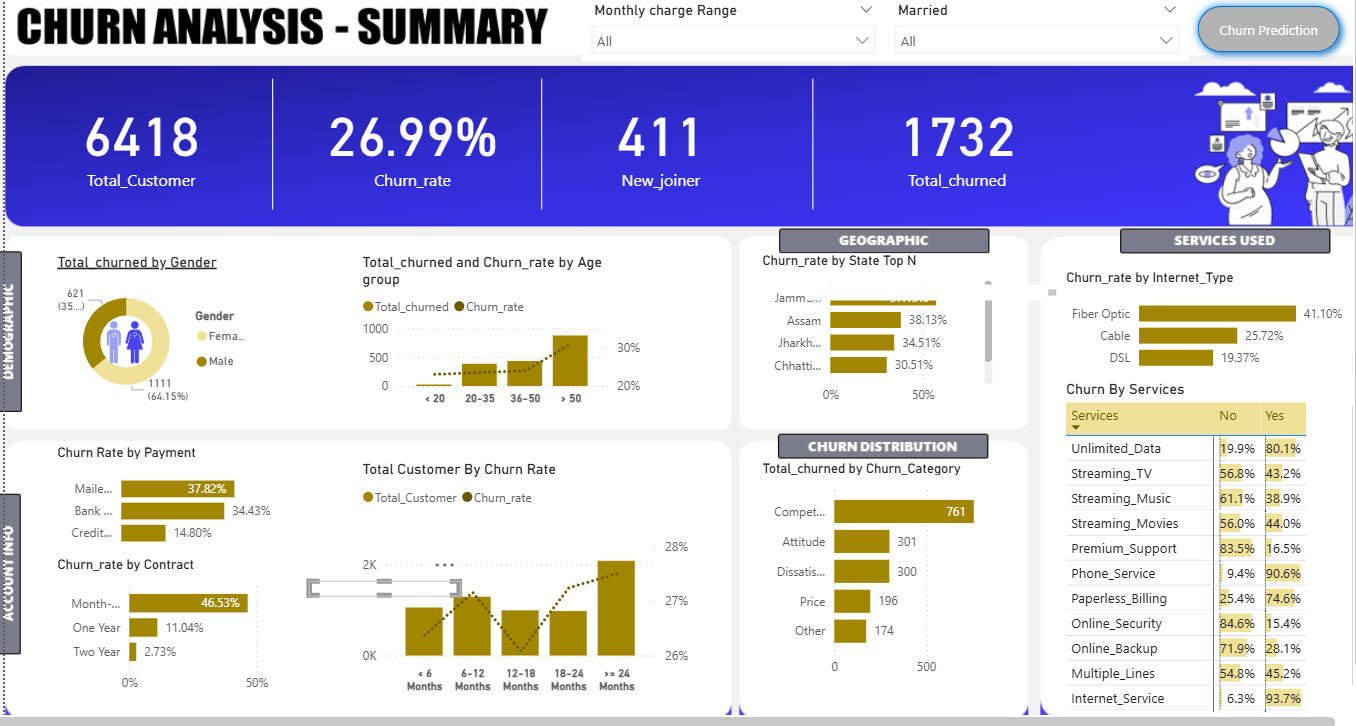

This screenshot's page, from the dashboard's own definition file:
{"tool":"powerbi","page":{"name":"Summary","canvas":[1366,768],"ordinal":0},"visuals":[{"type":"card","fields":{"Values":["Measure.Total_churned"]},"box":[832,80,240,128],"z":0},{"type":"card","fields":{"Values":["Measure.New_joiner"]},"box":[560,80,192,128],"z":1000},{"type":"card","fields":{"Values":["Measure.Total_Customer"]},"box":[32,80,208,128],"z":2000},{"type":"card","fields":{"Values":["Measure.Churn_rate"]},"box":[304,80,208,128],"z":3000},{"type":"lineStackedColumnComboChart","fields":{"Category":["Mapping age.Age group"],"Y":["Measure.Total_churned"],"Y2":["Measure.Churn_rate"]},"box":[352,256,288,160],"z":4000},{"type":"clusteredBarChart","title":"Churn Rate by Payment","fields":{"Category":["prod_Churn.Payment_Method"],"Y":["Measure.Churn_rate"]},"box":[48,448,224,112],"z":5000},{"type":"donutChart","fields":{"Y":["Measure.Total_churned"],"Category":["prod_Churn.Gender"]},"box":[48,256,208,160],"z":6000},{"type":"clusteredBarChart","fields":{"Category":["prod_Churn.Contract"],"Y":["Measure.Churn_rate"]},"box":[48,560,256,144],"z":7000},{"type":"lineStackedColumnComboChart","title":"Total Customer By Churn Rate","fields":{"Y":["Measure.Total_Customer"],"Y2":["Measure.Churn_rate"],"Category":["Mapping Tenure.Tenure Group"]},"box":[352,464,336,240],"z":8000},{"type":"clusteredBarChart","title":"Churn_rate by State Top N","fields":{"Category":["prod_Churn.State"],"Y":["Measure.Churn_rate"]},"box":[752,256,240,160],"z":9000},{"type":"clusteredBarChart","fields":{"Category":["prod_Churn.Churn_Category"],"Y":["Measure.Total_churned"]},"box":[752,464,256,224],"z":10000},{"type":"clusteredBarChart","fields":{"Category":["prod_Churn.Internet_Type"],"Y":["Measure.Churn_rate"]},"box":[1056,272,304,112],"z":11000},{"type":"pivotTable","title":"Churn By Services","fields":{"Rows":["PRod_services.Services"],"Columns":["PRod_services.Status"],"Values":["Sum(PRod_services.Churn status)"]},"box":[1056,384,304,336],"z":12000},{"type":"slicer","fields":{"Values":["prod_Churn.Monthly charge status"]},"box":[576,0,304,64],"z":13000},{"type":"image","box":[72,312,96,64],"z":14000},{"type":"slicer","fields":{"Values":["prod_Churn.Married"]},"box":[880,0,304,64],"z":15000},{"type":"textbox","box":[800,288,256,16],"z":16000},{"type":"shape","box":[1184,0,160,64],"z":16001}]}

Visuals, with their boxes on the page's 1366x768 design canvas (x1, y1, x2, y2). These are canvas units, not pixel positions in the 1356x726 screenshot, which may show the page scaled, cropped or inside an application window:
card - Measure.Total_churned: (832, 80, 1072, 208)
card - Measure.New_joiner: (560, 80, 752, 208)
card - Measure.Total_Customer: (32, 80, 240, 208)
card - Measure.Churn_rate: (304, 80, 512, 208)
lineStackedColumnComboChart - Mapping age.Age group x Measure.Total_churned: (352, 256, 640, 416)
"Churn Rate by Payment" clusteredBarChart: (48, 448, 272, 560)
donutChart - Measure.Total_churned x prod_Churn.Gender: (48, 256, 256, 416)
clusteredBarChart - prod_Churn.Contract x Measure.Churn_rate: (48, 560, 304, 704)
"Total Customer By Churn Rate" lineStackedColumnComboChart: (352, 464, 688, 704)
"Churn_rate by State Top N" clusteredBarChart: (752, 256, 992, 416)
clusteredBarChart - prod_Churn.Churn_Category x Measure.Total_churned: (752, 464, 1008, 688)
clusteredBarChart - prod_Churn.Internet_Type x Measure.Churn_rate: (1056, 272, 1360, 384)
"Churn By Services" pivotTable: (1056, 384, 1360, 720)
slicer - prod_Churn.Monthly charge status: (576, 0, 880, 64)
image: (72, 312, 168, 376)
slicer - prod_Churn.Married: (880, 0, 1184, 64)
textbox: (800, 288, 1056, 304)
shape: (1184, 0, 1344, 64)
